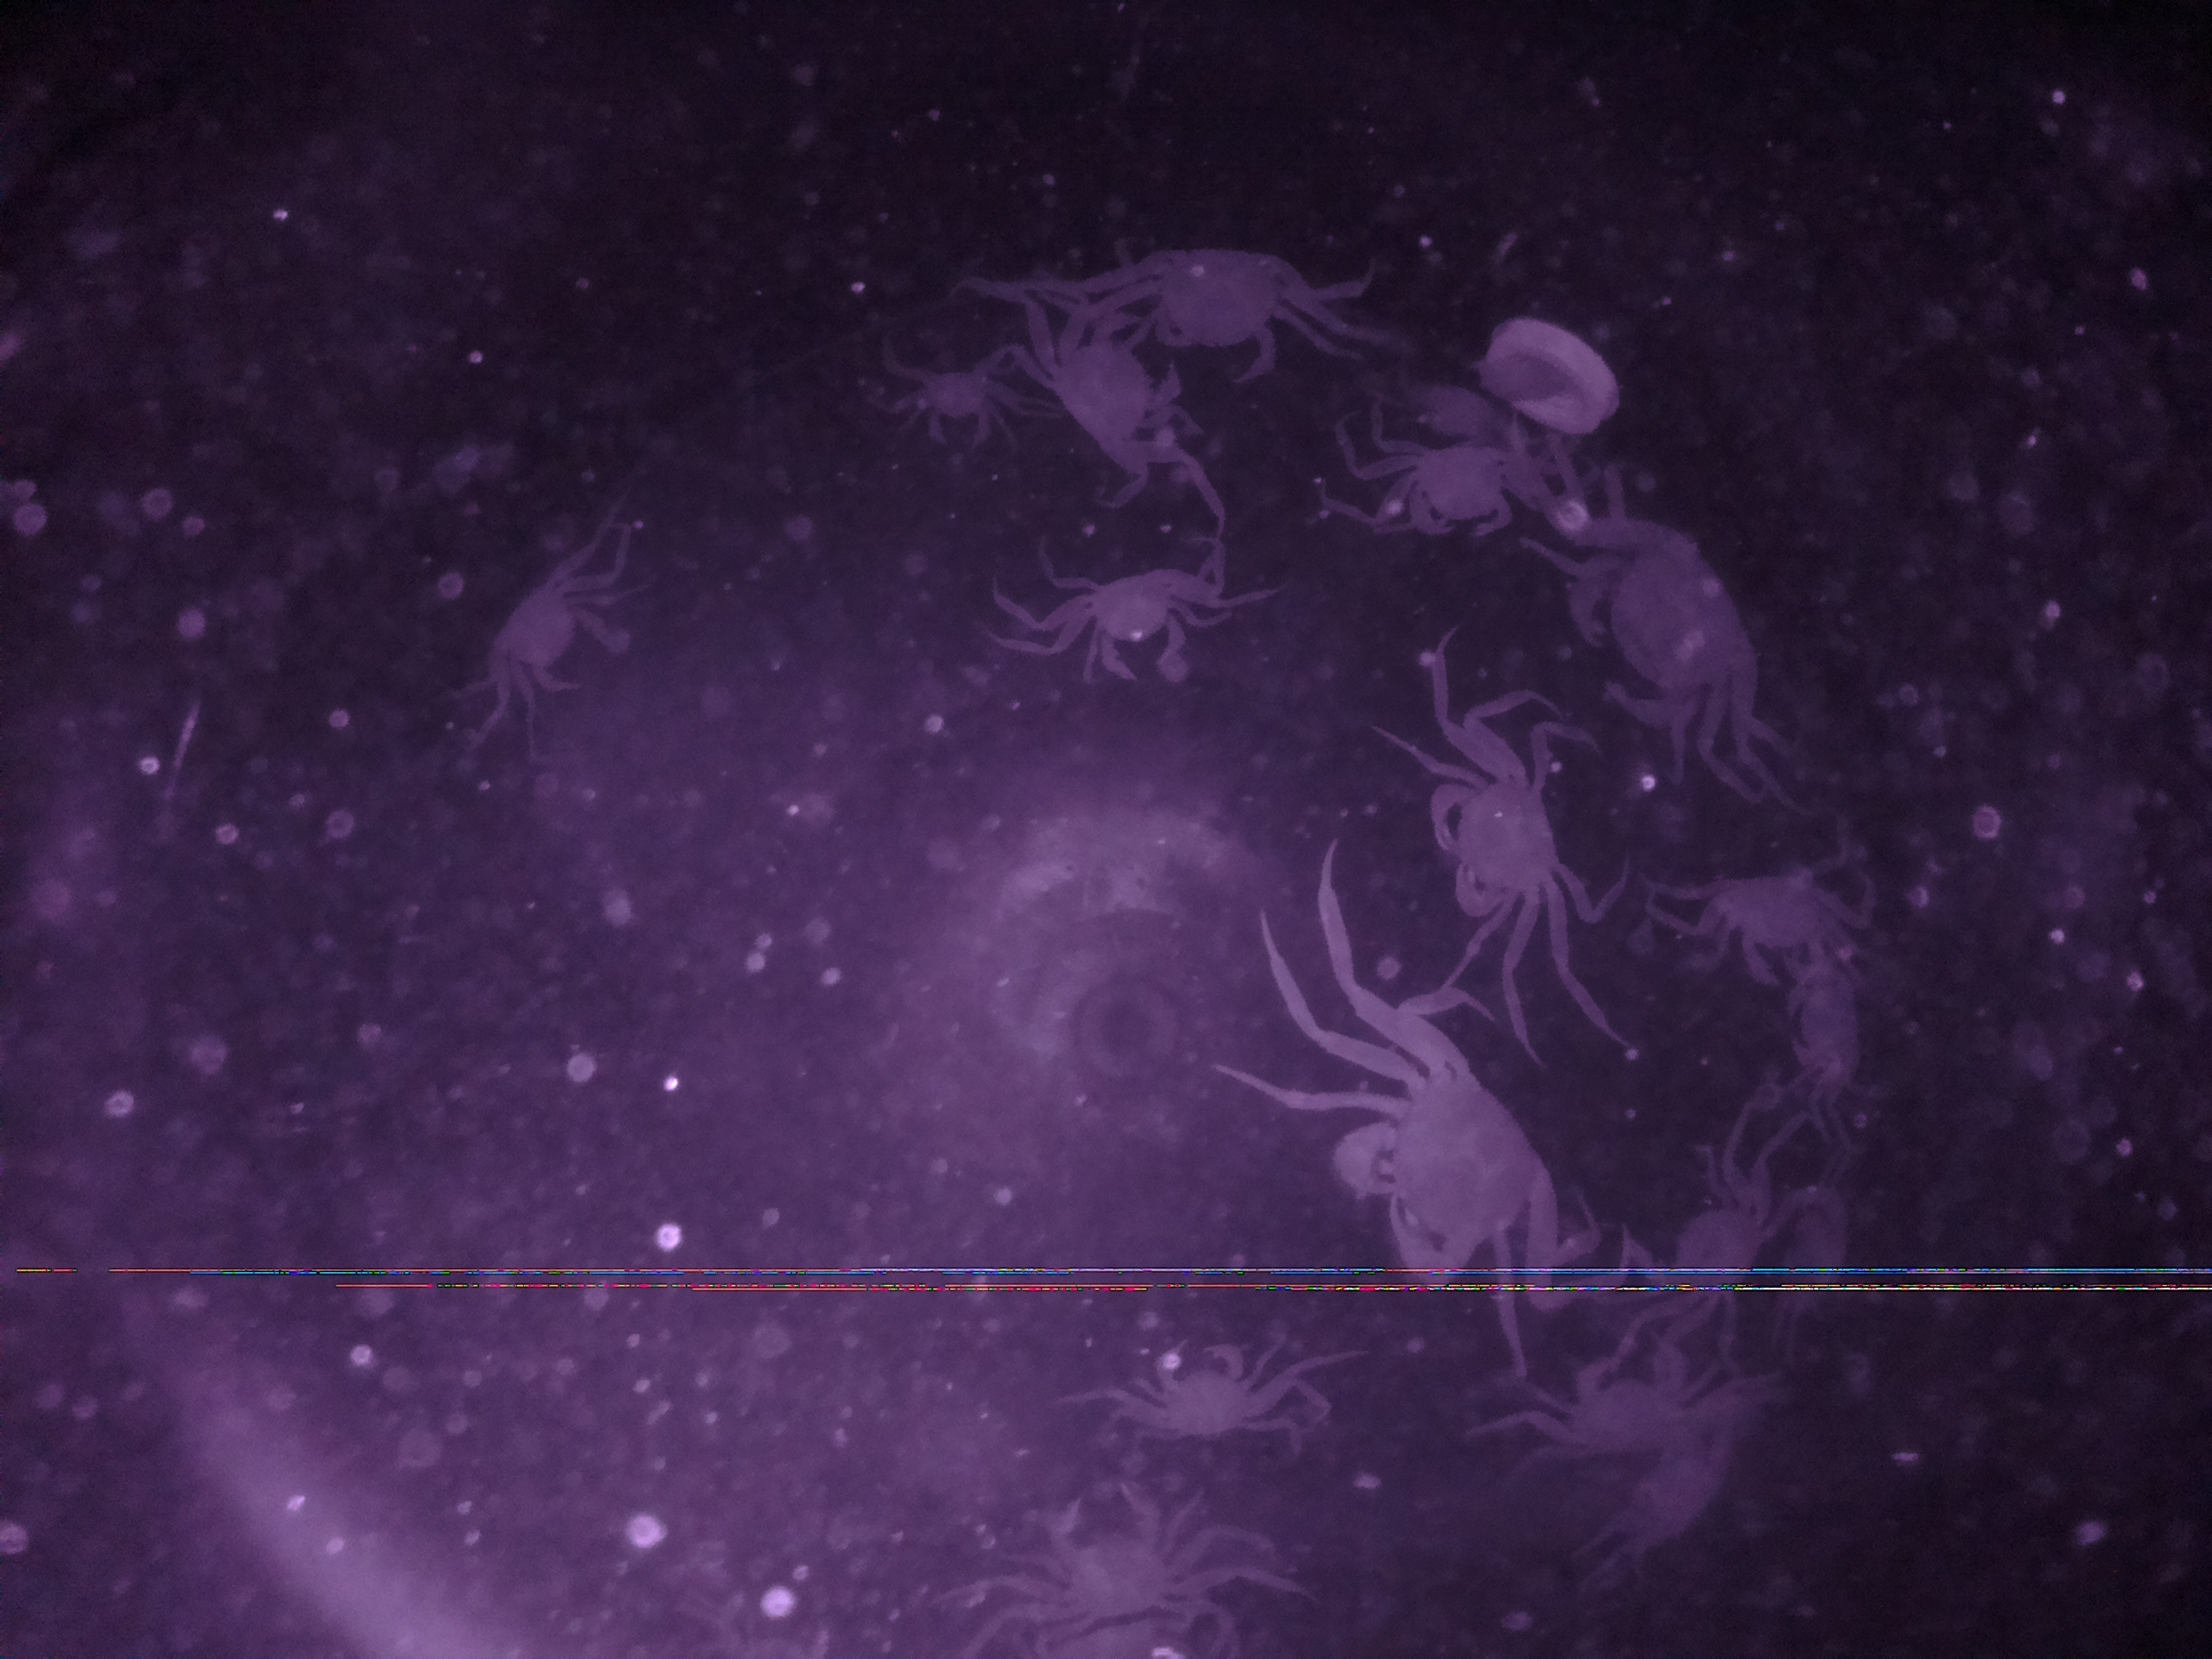Crab: (1540, 493, 1773, 746), (1000, 298, 1176, 493), (1416, 744, 1575, 950), (1022, 1467, 1202, 1633), (1674, 847, 1867, 995), (1134, 228, 1324, 376), (475, 559, 629, 714), (1369, 416, 1534, 554), (1057, 558, 1216, 701), (1122, 1331, 1305, 1446)
